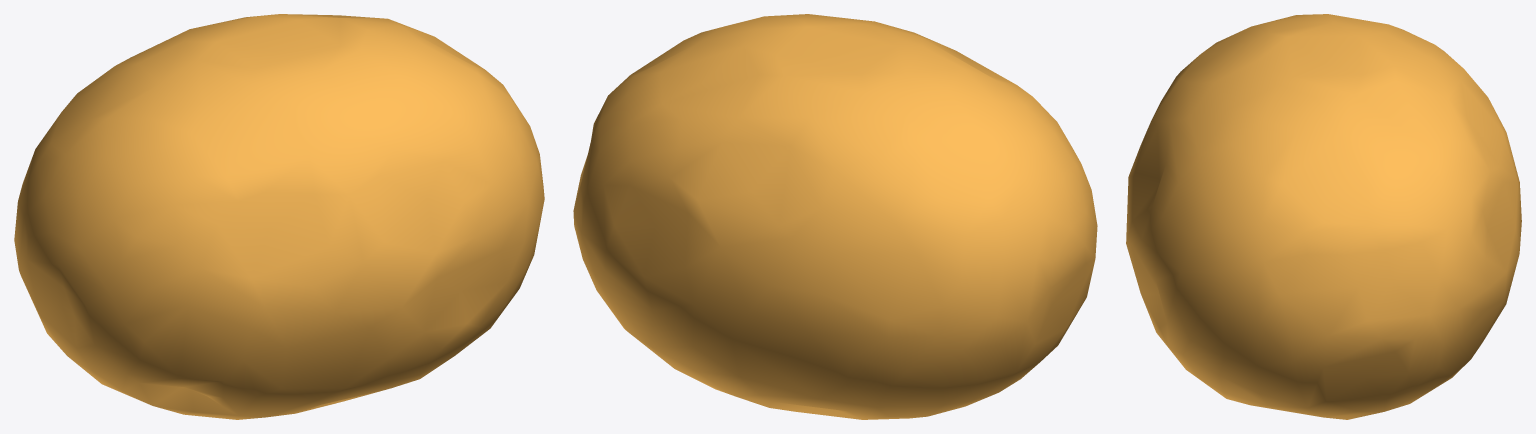
Rendered from potato2.gltf.
3 views of the same model, side by side, from view 1: azimuth 30°, elevation 25°; view 2: azimuth 150°, elevation 25°; view 3: azimuth 270°, elevation 25° (orthographic). The views are drawn at different scales.
Visible parts, largest first — view 1: Cube.002; view 2: Cube.002; view 3: Cube.002.
Boxes of the visible parts, x1=… form: Cube.002: x1=14, y1=14, x2=544, y2=419; Cube.002: x1=573, y1=14, x2=1097, y2=419; Cube.002: x1=1126, y1=14, x2=1521, y2=419.
Bounding box in the file's own units: 2.6 × 1.81 × 1.99.
Materials: 1 (1 with a texture image).
